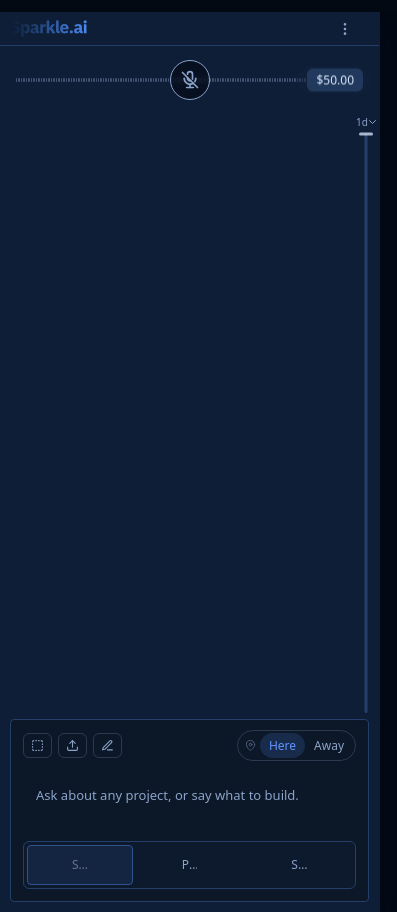
Test: a turn that FAILS says what actually went wrong › does not let markdown syntax in the evidence be interpreted
Step 1. Type "what needs me?" into the text box → point(190, 804), box [23,775,356,833]
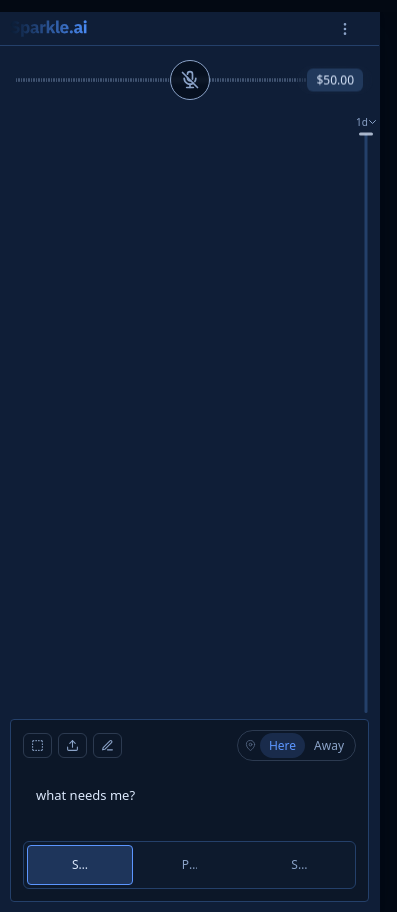
Step 2. Click the text "Send" → point(80, 865), box [72,856,88,874]
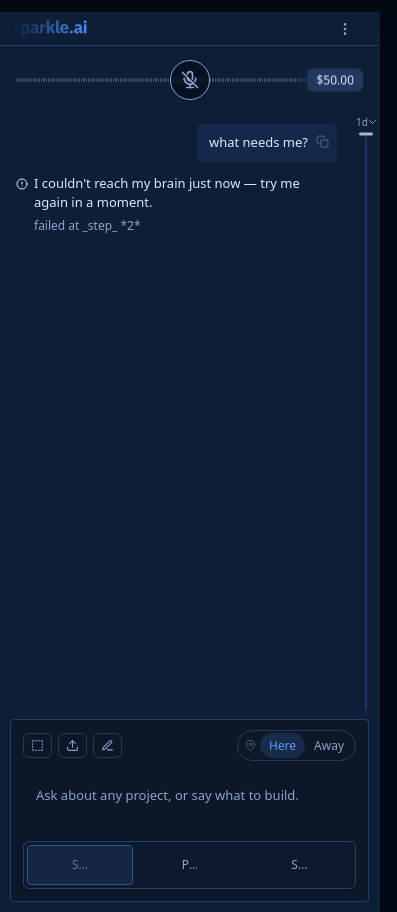
Now the text with test id "concierge-failure-evidence" reads "failed at _step_ *2*", box [34,216,141,234]
